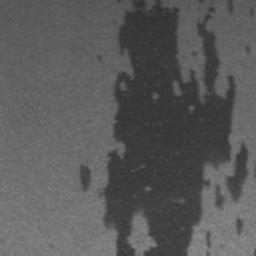Red iron sheet: (104, 0, 248, 256), (78, 165, 91, 189), (225, 0, 234, 14), (236, 218, 243, 232), (206, 232, 211, 247), (248, 8, 256, 17), (96, 52, 104, 60), (244, 45, 251, 52)
